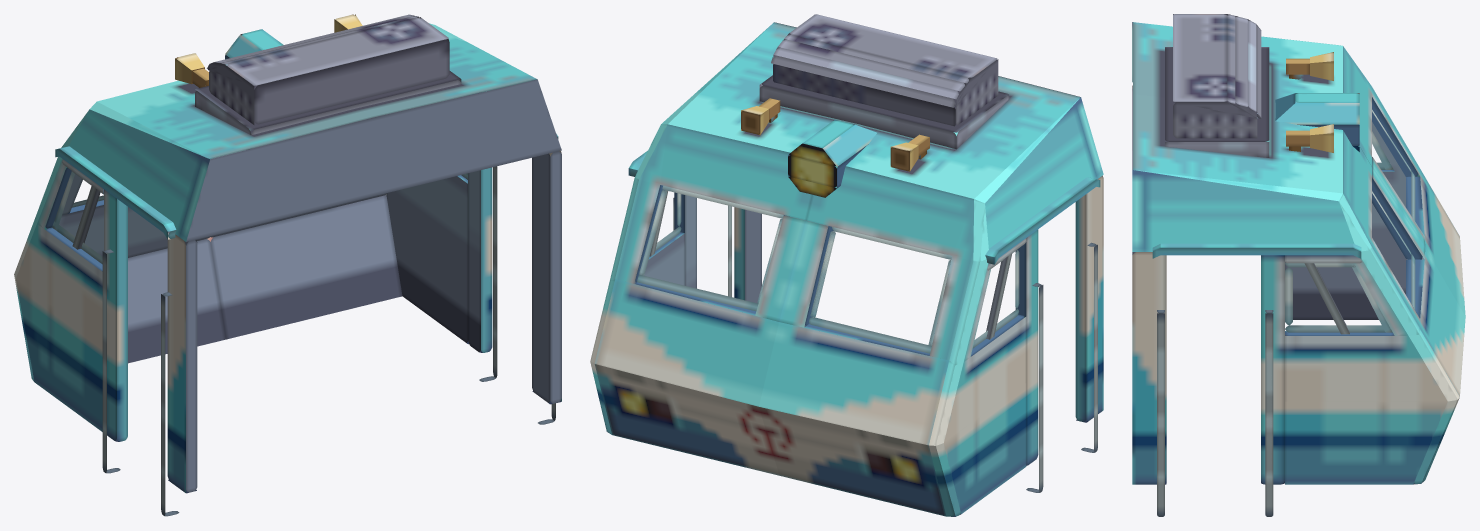
Rendered from ss8_head_late.obj.
3 renders of one model, left to right at view 1: azimuth 30°, elevation 25°; view 2: azimuth 150°, elevation 25°; view 3: azimuth 270°, elevation 25°, orthographic. The views are drawn at different scales.
Visible parts, largest first — view 1: cube_selection; view 2: cube_selection; view 3: cube_selection.
Part boxes in pixels (x1=…): cube_selection: x1=14, y1=14, x2=561, y2=516; cube_selection: x1=590, y1=14, x2=1103, y2=516; cube_selection: x1=1132, y1=14, x2=1465, y2=516.
Size of the model in its own units: 3.25 by 3.19 by 2.6.
